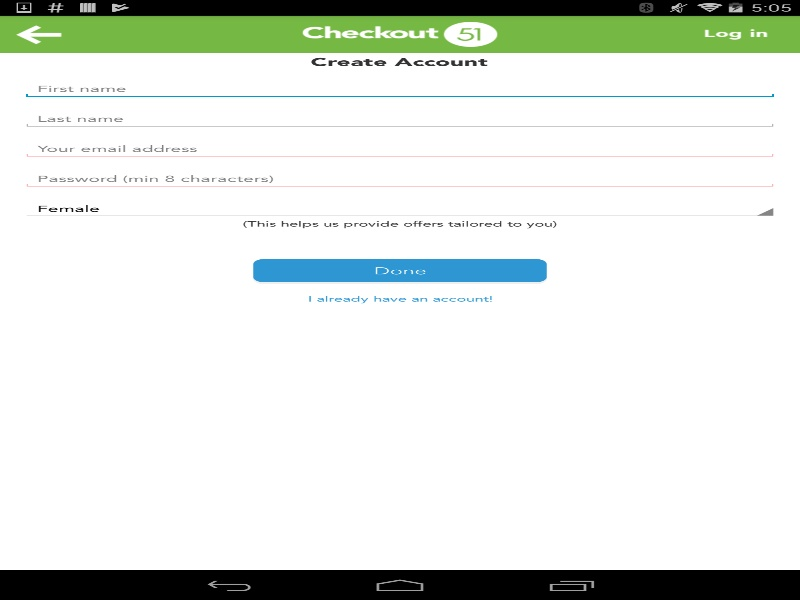Button: (253, 259, 546, 284)
Input: (21, 79, 778, 99), (21, 109, 778, 129), (21, 139, 778, 159), (21, 169, 778, 189), (21, 199, 778, 219)
